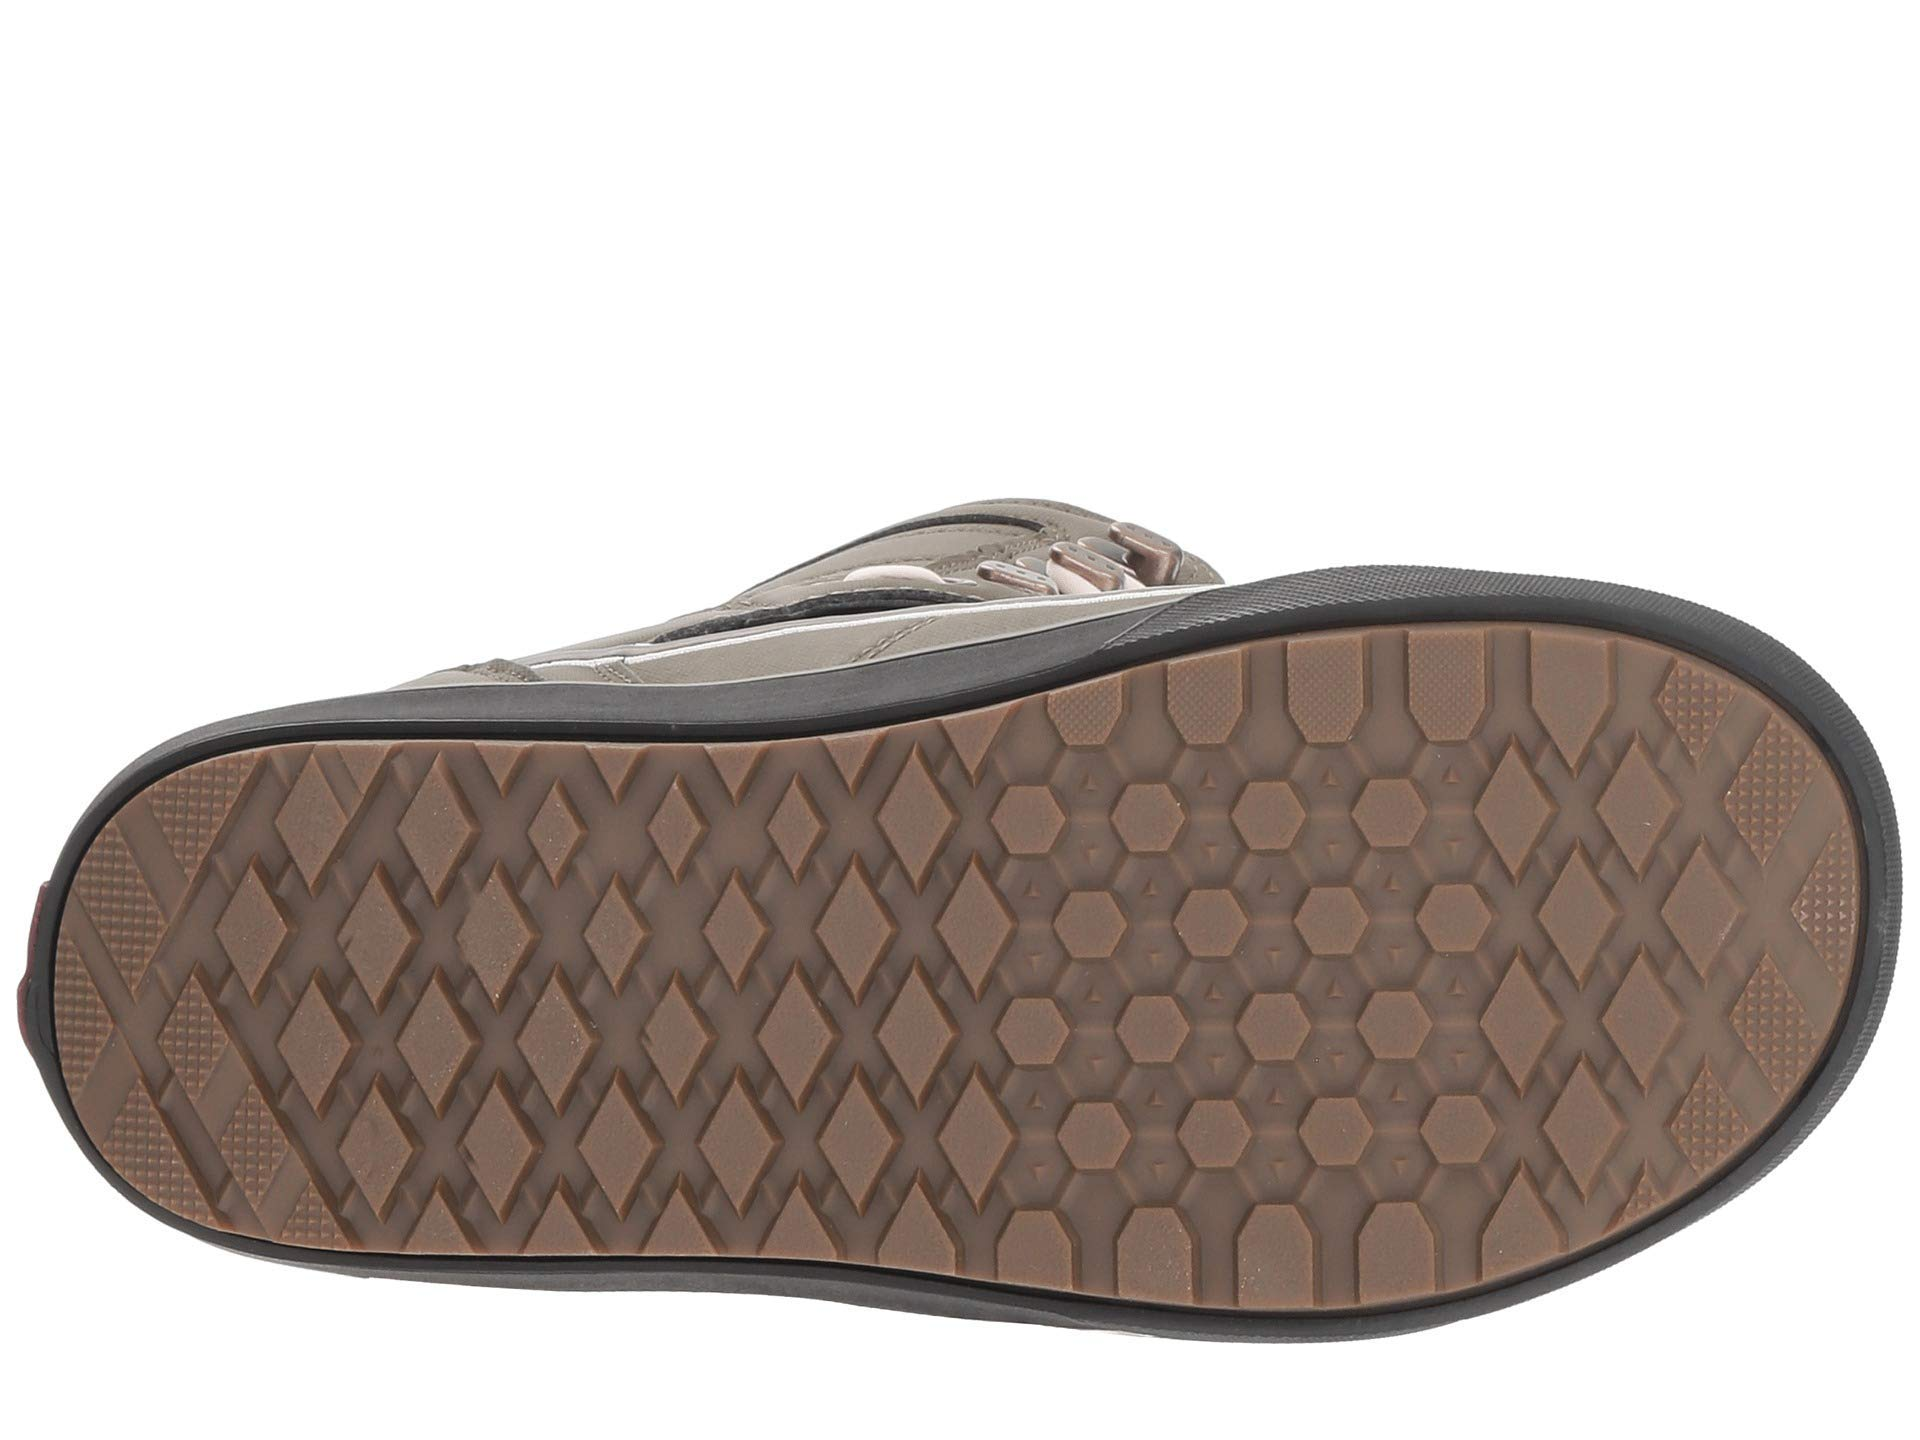polygon: (993, 788, 1512, 1249)
quad: (376, 744, 887, 1268), (1530, 746, 1791, 1080)
